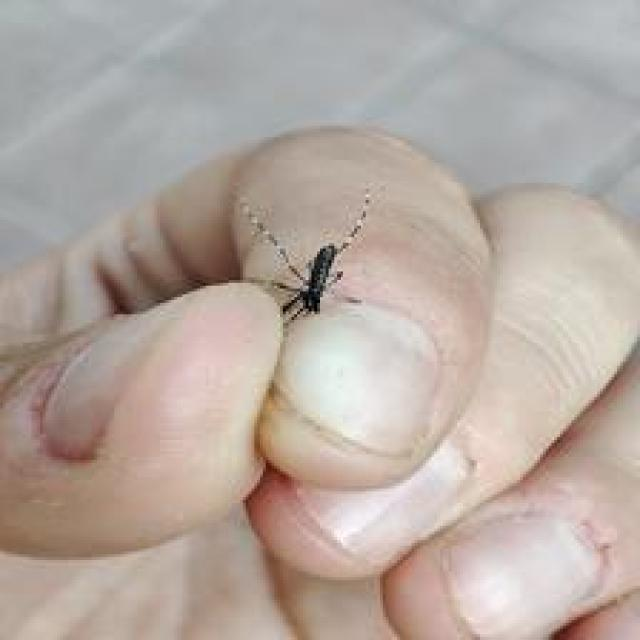Aedes albopictus: (234, 184, 377, 324)
